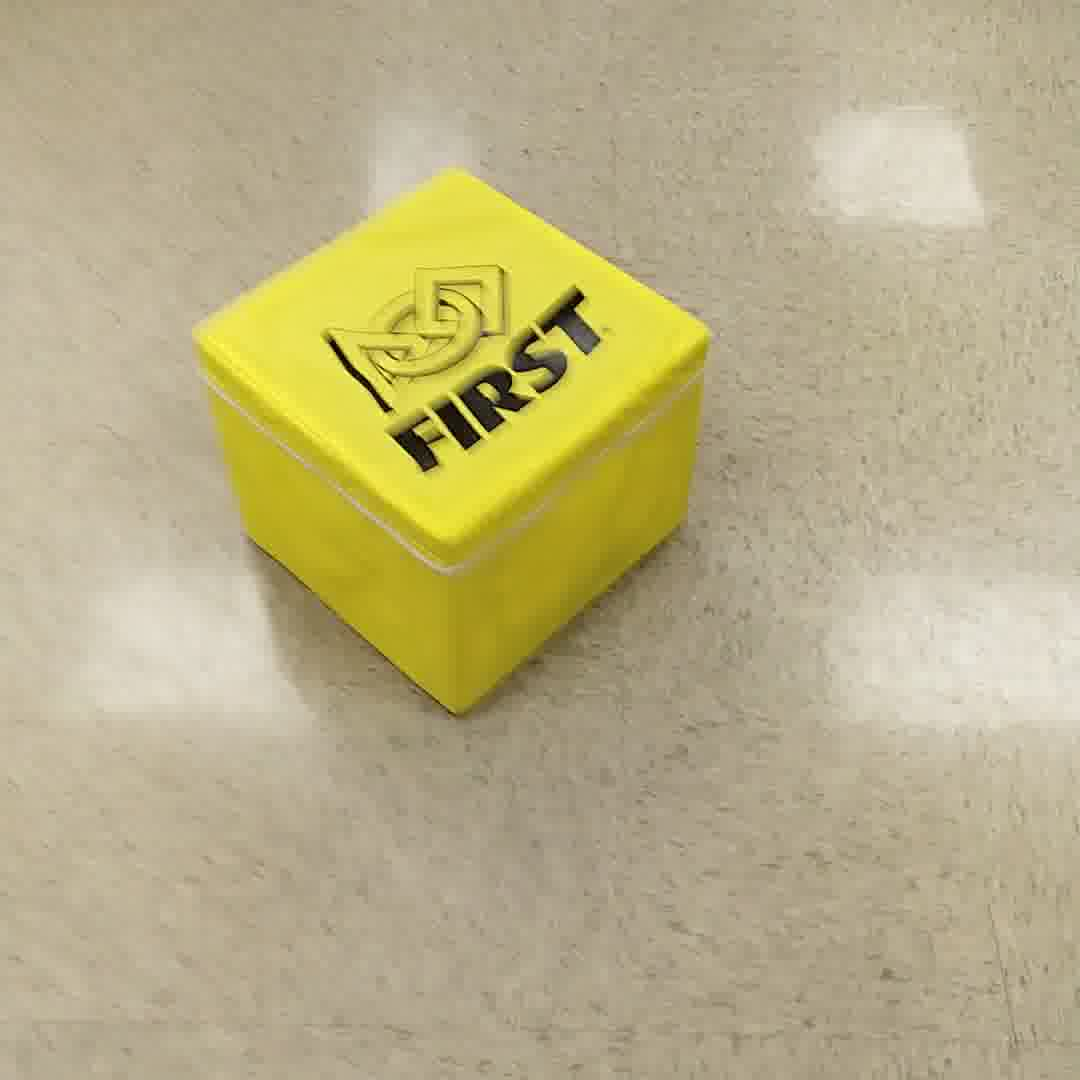box: (191, 161, 713, 699)
